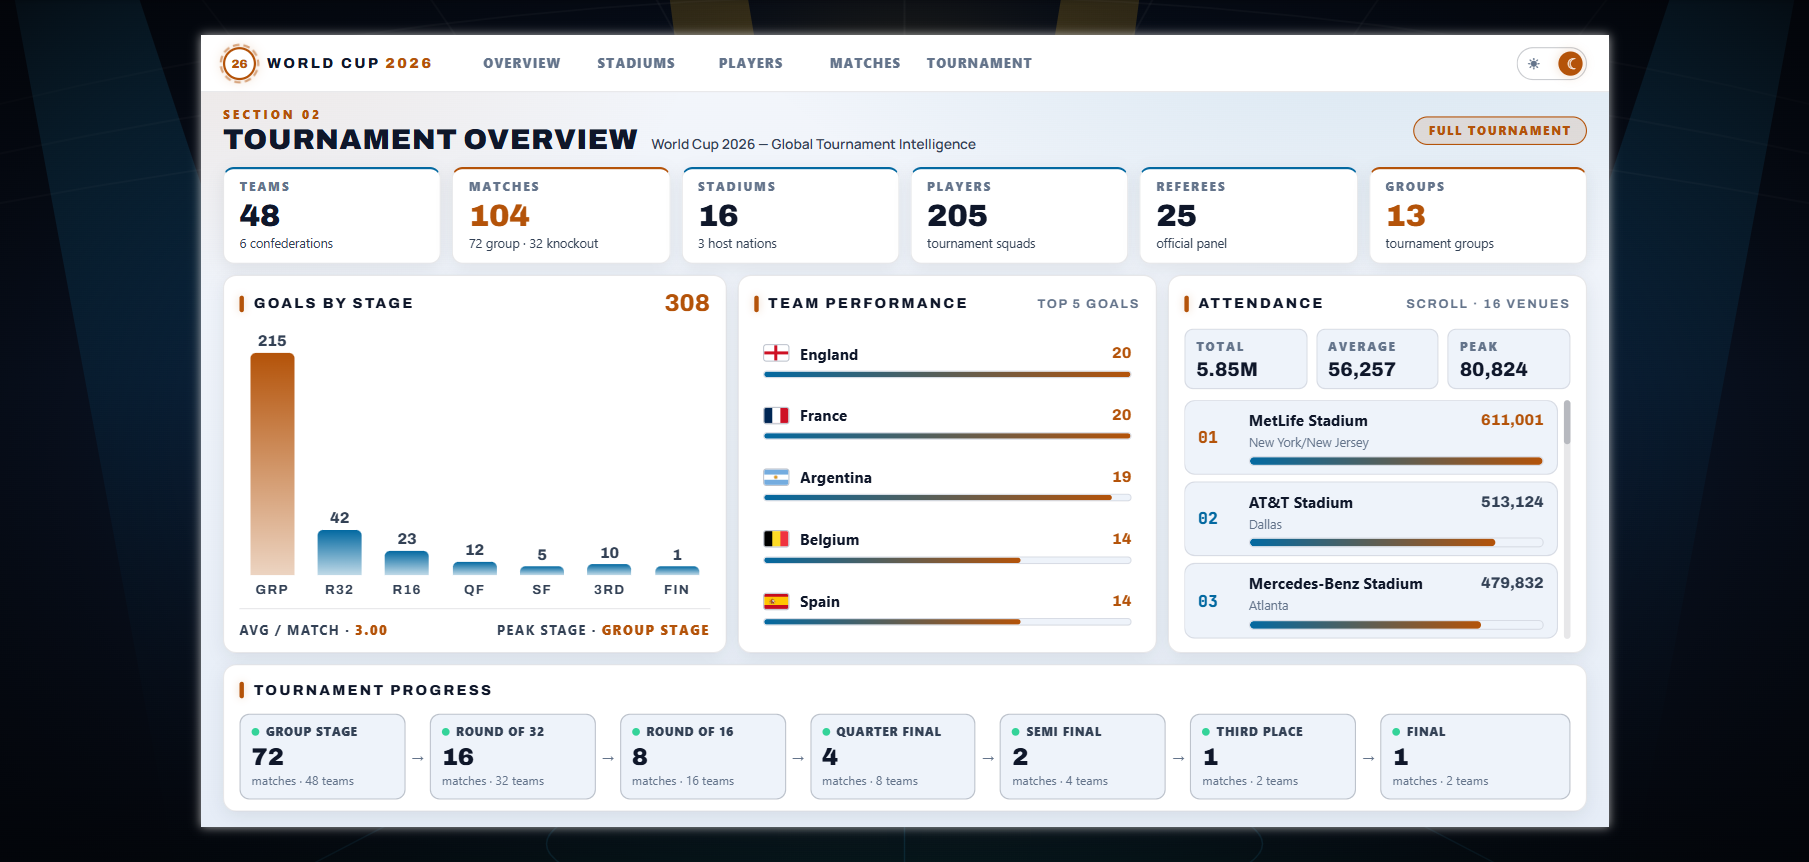

Layout of this report page (visuals, bound fields, positions):
{"tool":"powerbi","page":{"name":"Overview Page","canvas":[1280,720],"ordinal":1},"visuals":[{"type":"htmlContent443BE3AD55E043BF878BED274D3A6855","fields":{"content":["HTML Visuals.Overview_Page"]},"box":[0,0,1280,720],"z":0},{"type":"actionButton","title":"Tournament","box":[656,0,104,51],"z":4000},{"type":"actionButton","title":"Matches","box":[552,0,104,51],"z":4125},{"type":"actionButton","title":"Players","box":[448,0,104,51],"z":4250},{"type":"actionButton","title":"Stadiums","box":[344,0,104,51],"z":4500}]}

Visuals, with their boxes on the page's 1280x720 design canvas (x1, y1, x2, y2). These are canvas units, not pixel positions in the 1809x862 screenshot, which may show the page scaled, cropped or inside an application window:
htmlContent443BE3AD55E043BF878BED274D3A6855 - HTML Visuals.Overview_Page: [0, 0, 1280, 720]
"Tournament" actionButton: [656, 0, 760, 51]
"Matches" actionButton: [552, 0, 656, 51]
"Players" actionButton: [448, 0, 552, 51]
"Stadiums" actionButton: [344, 0, 448, 51]
